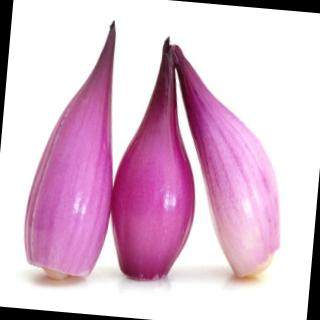Bawang Merah: (16, 12, 130, 289), (104, 31, 212, 287)
